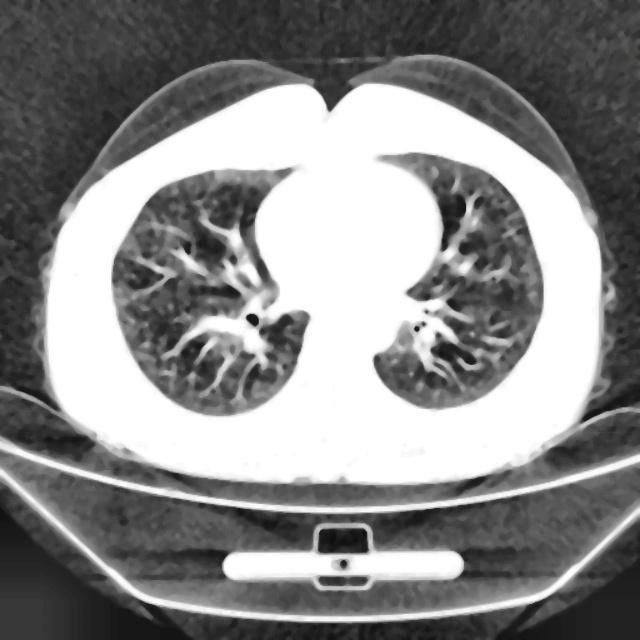covid: (39, 55, 611, 487)
